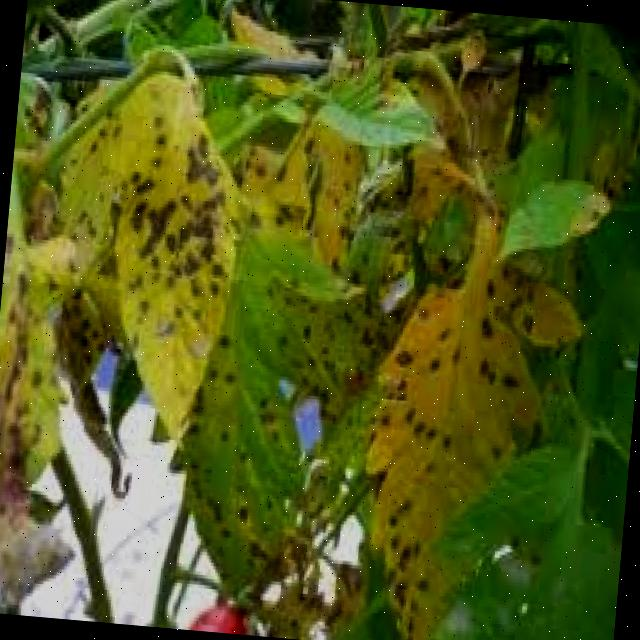leaf spot: (316, 186, 619, 640), (59, 68, 264, 462)
